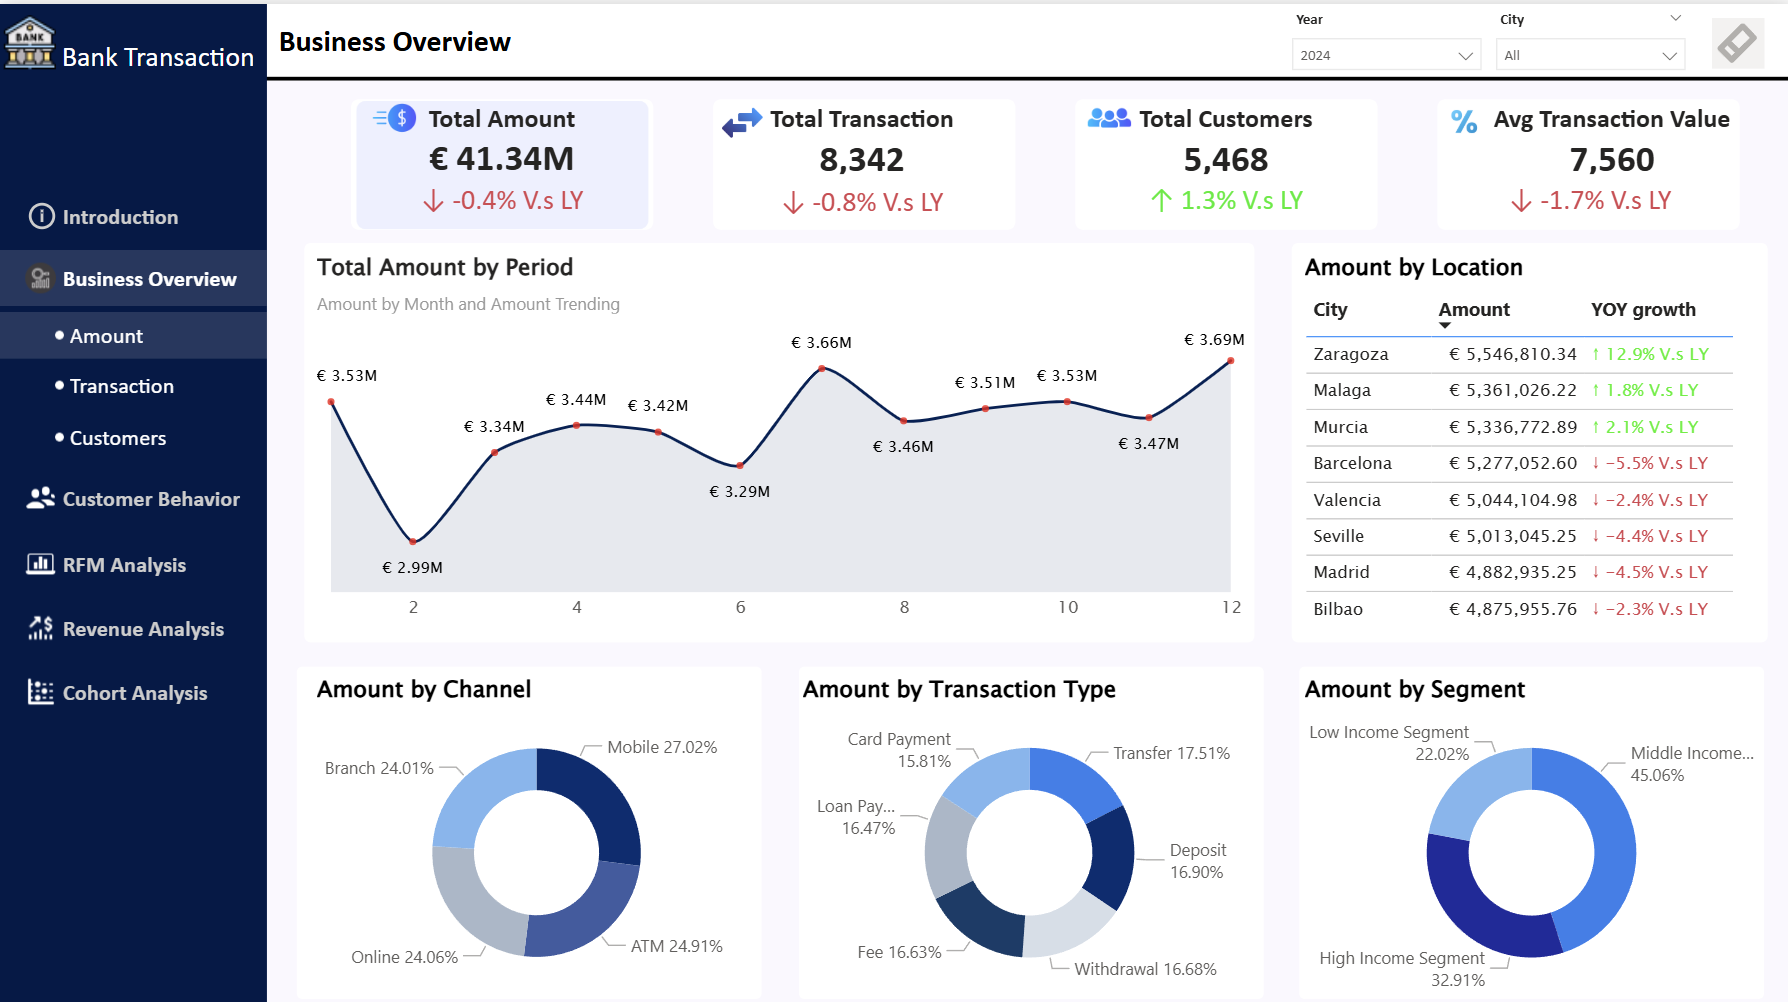

The page's visual inventory and layout, read from the dashboard file:
{"tool":"powerbi","page":{"name":"Overview","canvas":[1280,720],"ordinal":1},"visuals":[{"type":"slicer","title":"year","fields":{"Values":["Dim_date.Year"]},"box":[913.3,4,155.5,46.4],"z":0,"group":"g7"},{"type":"card","title":"Total Amount","fields":{"Values":["Measure.Total Amount"]},"box":[250,70,217.2,56.1],"z":0,"group":"g2"},{"type":"card","title":"Total Transaction","fields":{"Values":["Measure.Total Transaction"]},"box":[508.2,70,217.3,56.4],"z":0,"group":"g3"},{"type":"card","title":"Total Customers","fields":{"Values":["Measure.Total Customers"]},"box":[767.3,70,217.3,56.4],"z":0,"group":"g4"},{"type":"card","title":"Avg Transaction Value","fields":{"Values":["Measure.Average Transaction Value"]},"box":[1042.8,70,217.3,56.4],"z":0,"group":"g5"},{"type":"donutChart","title":"Amount by Segment","fields":{"Y":["Measure.Total Amount"],"Category":["Fact_transaction.CustomerSegment"]},"box":[926.4,476.4,333.6,233.6],"z":0,"group":"g1"},{"type":"slicer","title":"city","fields":{"Values":["Dim_location.BranchCity"]},"box":[1058.8,4,155.5,46.4],"z":1000,"group":"g7"},{"type":"card","title":"YOY amount card","fields":{"Values":["Measure.YOY Amount growth"]},"box":[250,126.1,217.2,29.4],"z":1000,"group":"g2"},{"type":"card","fields":{"Values":["Measure.YOY Tracsaction growth"]},"box":[508.2,126.3,217.3,29.1],"z":1000,"group":"g3"},{"type":"card","fields":{"Values":["Measure.YOY Customers growth"]},"box":[767.3,126.4,217.3,29.1],"z":1000,"group":"g4"},{"type":"card","fields":{"Values":["Measure.YOY ATV growth"]},"box":[1027.3,126.4,217.3,29.1],"z":1000,"group":"g5"},{"type":"actionButton","title":"Cohort Button","box":[0,472,190.7,40],"z":1000,"group":"g6"},{"type":"donutChart","title":"Amount by Channel","fields":{"Y":["Measure.Total Amount"],"Category":["Fact_transaction.Channel"]},"box":[220.9,476.4,323.6,233.6],"z":1000,"group":"g1"},{"type":"image","box":[250,59.1,63.6,45.5],"z":2000,"group":"g2"},{"type":"image","box":[766.4,59.1,53.6,45.5],"z":2000,"group":"g4"},{"type":"image","box":[506.4,63.6,49.1,40.9],"z":2000,"group":"g3"},{"type":"group","id":"g1","title":"Chart Amount","box":[220.9,63.8,1039.1,646.2],"z":2000},{"type":"image","box":[246.9,63.8,223.8,101.2],"z":2000,"group":"g1"},{"type":"image","box":[1027.3,66.4,37.3,36.4],"z":2000,"group":"g5"},{"type":"group","id":"g2","title":"Card Amount","box":[250,59.1,217.2,96.5],"z":3000},{"type":"actionButton","title":"Revenue Button","box":[0,426.7,190.7,40],"z":3000,"group":"g6"},{"type":"donutChart","title":"Amount by Transaction Type","fields":{"Y":["Measure.Total Amount"],"Category":["Fact_transaction.TransactionType"]},"box":[568.6,476.4,333.6,233.6],"z":3000,"group":"g1"},{"type":"group","id":"g3","title":"Card Transaction","box":[506.4,63.6,219.1,91.8],"z":4000},{"type":"tableEx","title":"Amount by Location","fields":{"Values":["Fact_transaction.BranchCity","Measure.Total Amount","Measure.YOY Amount growth"]},"box":[926.4,175.5,333.6,276.4],"z":4000,"group":"g1"},{"type":"group","id":"g4","title":"Card Customers","box":[766.4,59.1,218.2,96.4],"z":5000},{"type":"lineChart","title":"Total Amount by Period","fields":{"Y":["Measure.Total Amount"],"Category":["Dim_date.Month"]},"box":[220.9,175.5,672.7,276.4],"z":5000,"group":"g1"},{"type":"actionButton","title":"RFM Button","box":[0,380,190.7,40],"z":5000,"group":"g6"},{"type":"group","id":"g5","title":"Card ATV","box":[1027.3,66.4,232.7,89.1],"z":6000},{"type":"group","id":"g6","title":"Navigation","box":[0,132,192,380],"z":6500},{"type":"group","id":"g7","title":"Slicer","box":[913.3,4,301.3,46.7],"z":7000},{"type":"actionButton","title":"Customer Behavior Button","box":[0,333.3,190.7,40],"z":7000,"group":"g6"},{"type":"actionButton","title":"Customers Button","box":[0,293,192,33],"z":9000,"group":"g6"},{"type":"actionButton","title":"Clear","box":[1222.7,9.3,37.3,36],"z":9500},{"type":"actionButton","title":"Transaction button","box":[0,256,192,33],"z":11000,"group":"g6"},{"type":"actionButton","title":"Amount active button","box":[0,220,192,33.3],"z":12000,"group":"g6"},{"type":"actionButton","title":"Business Overview active Button","box":[0,176,190.7,40],"z":14000,"group":"g6"},{"type":"actionButton","title":"Introduction Button","box":[0,132,192,40],"z":17000,"group":"g6"}]}

Visuals, with their boxes on the page's 1280x720 design canvas (x1, y1, x2, y2). These are canvas units, not pixel positions in the 1788x1002 screenshot, which may show the page scaled, cropped or inside an application window:
"year" slicer: <box>913,4,1069,50</box>
"Total Amount" card: <box>250,70,467,126</box>
"Total Transaction" card: <box>508,70,726,126</box>
"Total Customers" card: <box>767,70,985,126</box>
"Avg Transaction Value" card: <box>1043,70,1260,126</box>
"Amount by Segment" donutChart: <box>926,476,1260,710</box>
"city" slicer: <box>1059,4,1214,50</box>
"YOY amount card" card: <box>250,126,467,156</box>
card - Measure.YOY Tracsaction growth: <box>508,126,726,155</box>
card - Measure.YOY Customers growth: <box>767,126,985,156</box>
card - Measure.YOY ATV growth: <box>1027,126,1245,156</box>
"Cohort Button" actionButton: <box>0,472,191,512</box>
"Amount by Channel" donutChart: <box>221,476,544,710</box>
image: <box>250,59,314,105</box>
image: <box>766,59,820,105</box>
image: <box>506,64,556,104</box>
"Chart Amount" group: <box>221,64,1260,710</box>
image: <box>247,64,471,165</box>
image: <box>1027,66,1065,103</box>
"Card Amount" group: <box>250,59,467,156</box>
"Revenue Button" actionButton: <box>0,427,191,467</box>
"Amount by Transaction Type" donutChart: <box>569,476,902,710</box>
"Card Transaction" group: <box>506,64,726,155</box>
"Amount by Location" tableEx: <box>926,176,1260,452</box>
"Card Customers" group: <box>766,59,985,156</box>
"Total Amount by Period" lineChart: <box>221,176,894,452</box>
"RFM Button" actionButton: <box>0,380,191,420</box>
"Card ATV" group: <box>1027,66,1260,156</box>
"Navigation" group: <box>0,132,192,512</box>
"Slicer" group: <box>913,4,1215,51</box>
"Customer Behavior Button" actionButton: <box>0,333,191,373</box>
"Customers Button" actionButton: <box>0,293,192,326</box>
"Clear" actionButton: <box>1223,9,1260,45</box>
"Transaction button" actionButton: <box>0,256,192,289</box>
"Amount active button" actionButton: <box>0,220,192,253</box>
"Business Overview active Button" actionButton: <box>0,176,191,216</box>
"Introduction Button" actionButton: <box>0,132,192,172</box>
